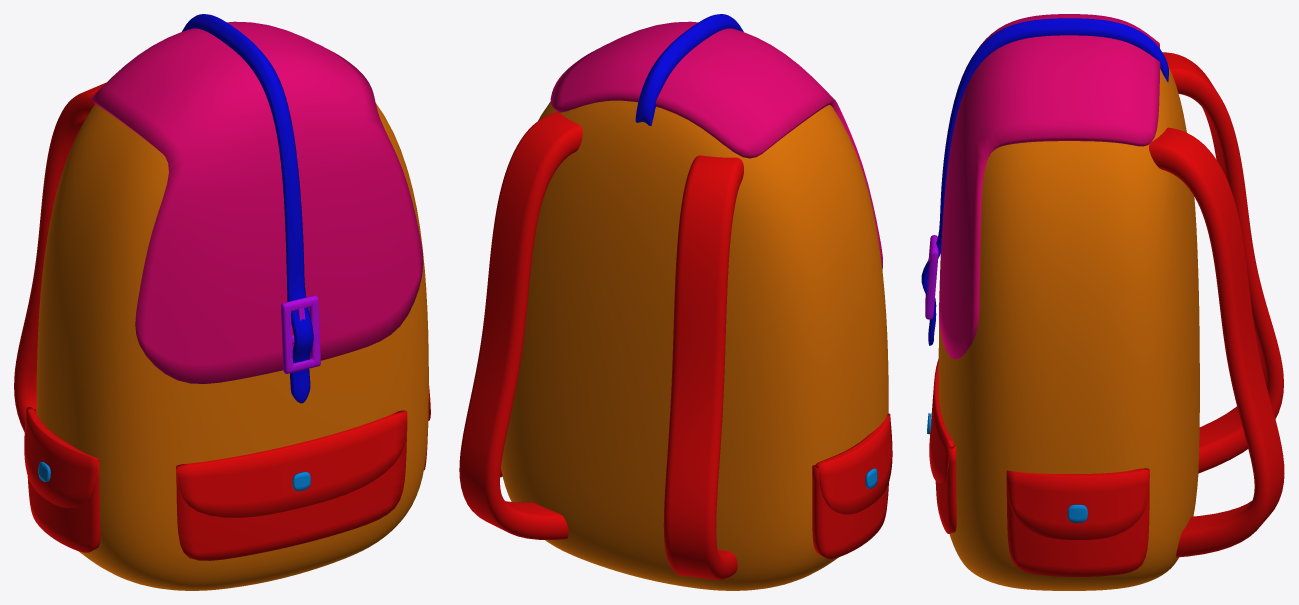
File: backpack.glb
The picture shows the model from 3 angles, left to right: view 1: azimuth 30°, elevation 25°; view 2: azimuth 150°, elevation 25°; view 3: azimuth 270°, elevation 25°; orthographic projection.
Parts seen in each view (by area): view 1: Cube.003, Cube, Cube.002, Cube.001, Cube.004, NurbsPath, Cube.007, Cube.006, Plane; view 2: Cube, NurbsPath, Cube.003, NurbsPath.001, Cube.007, Cube.006, Cube.004; view 3: Cube, Cube.003, NurbsPath.001, NurbsPath, Cube.010, Cube.009, Cube.004, Cube.002, Cube.001, Plane.
Part boxes in pixels (left/top/right/bottom): Cube.003: left=91, top=21, right=423, bottom=383; Cube: left=36, top=103, right=428, bottom=590; Cube.002: left=176, top=410, right=407, bottom=517; Cube.001: left=176, top=435, right=406, bottom=560; Cube.004: left=182, top=14, right=313, bottom=403; NurbsPath: left=14, top=82, right=106, bottom=431; Cube.007: left=24, top=407, right=99, bottom=508; Cube.006: left=27, top=409, right=100, bottom=552; Plane: left=281, top=295, right=320, bottom=373; Cube: left=501, top=100, right=888, bottom=590; NurbsPath: left=663, top=155, right=743, bottom=579; Cube.003: left=550, top=21, right=882, bottom=270; NurbsPath.001: left=459, top=112, right=582, bottom=539; Cube.007: left=816, top=413, right=892, bottom=514; Cube.006: left=812, top=464, right=888, bottom=558; Cube.004: left=635, top=14, right=743, bottom=125; Cube: left=938, top=65, right=1199, bottom=590; Cube.003: left=939, top=14, right=1160, bottom=359; NurbsPath.001: left=1149, top=127, right=1284, bottom=557; NurbsPath: left=1162, top=52, right=1283, bottom=473; Cube.010: left=1006, top=468, right=1149, bottom=539; Cube.009: left=1006, top=473, right=1149, bottom=576; Cube.004: left=921, top=18, right=1168, bottom=345; Cube.002: left=929, top=359, right=954, bottom=483; Cube.001: left=935, top=446, right=956, bottom=533; Plane: left=925, top=235, right=938, bottom=319.
Size of the model in its own units: 1.55 by 2.1 by 1.31.
